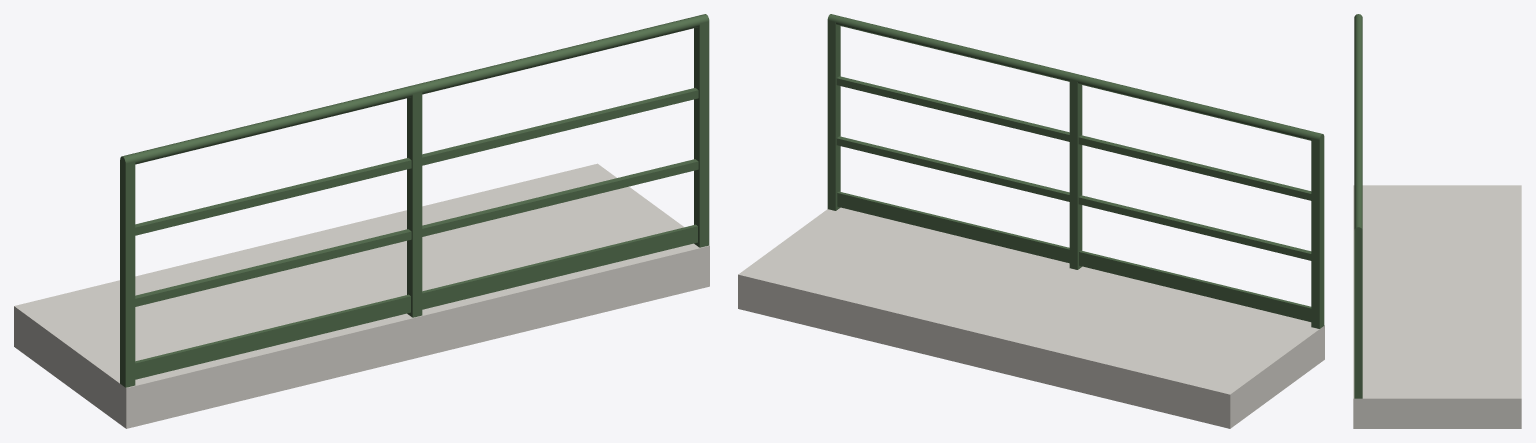
The model's file is str-018.glb.
The picture shows the model from 3 angles, left to right: view 1: azimuth 30°, elevation 25°; view 2: azimuth 150°, elevation 25°; view 3: azimuth 270°, elevation 25°; orthographic projection. The views are drawn at different scales.
Visible parts, largest first — view 1: deck_edge, kick_rail, top_rail, mid_rail_2, mid_rail_1, post_1, post_2, post_3; view 2: deck_edge, kick_rail, top_rail, mid_rail_1, mid_rail_2, post_1, post_3, post_2; view 3: deck_edge, top_rail, post_3.
Part boxes in pixels (x1,y1,x2,y2): deck_edge: [14, 163, 709, 428]; kick_rail: [122, 224, 697, 381]; top_rail: [120, 14, 709, 165]; mid_rail_2: [121, 159, 698, 308]; mid_rail_1: [121, 88, 698, 235]; post_1: [120, 160, 135, 387]; post_2: [407, 91, 422, 317]; post_3: [694, 21, 709, 247]; deck_edge: [738, 207, 1324, 428]; kick_rail: [837, 191, 1322, 323]; top_rail: [827, 14, 1324, 142]; mid_rail_1: [836, 76, 1323, 201]; mid_rail_2: [836, 136, 1323, 261]; post_1: [1311, 137, 1324, 328]; post_3: [827, 20, 840, 210]; post_2: [1069, 79, 1082, 269]; deck_edge: [1353, 185, 1521, 428]; top_rail: [1354, 14, 1362, 234]; post_3: [1354, 231, 1362, 398].
Size of the model in its own units: 3 by 1.33 by 1.
